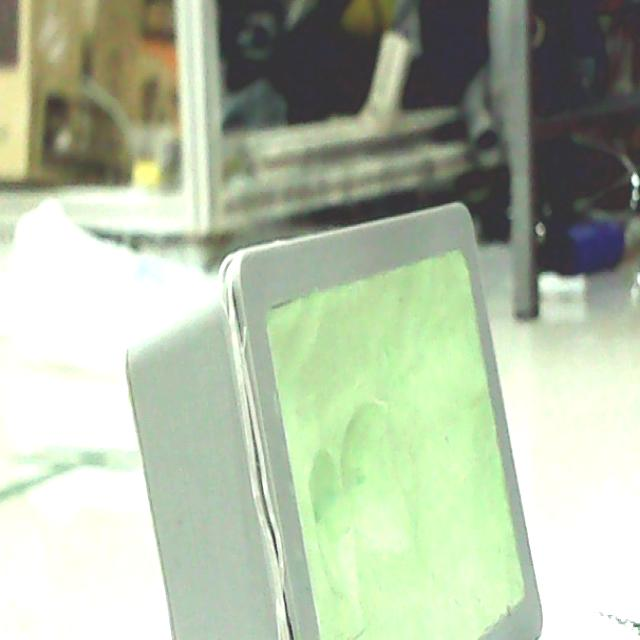block: (127, 203, 538, 640)
